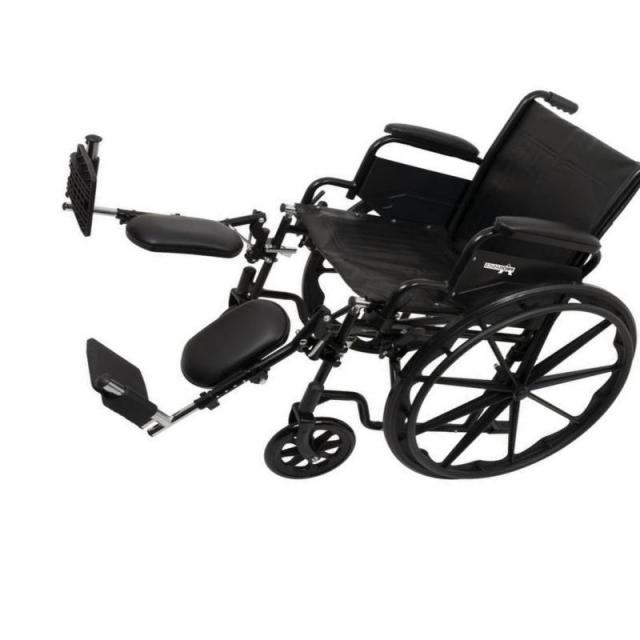wheelchair: (36, 56, 640, 502)
